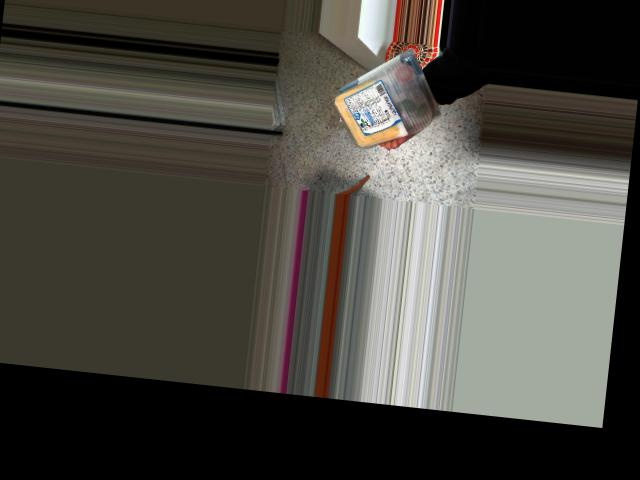cheese: (328, 82, 427, 144)
